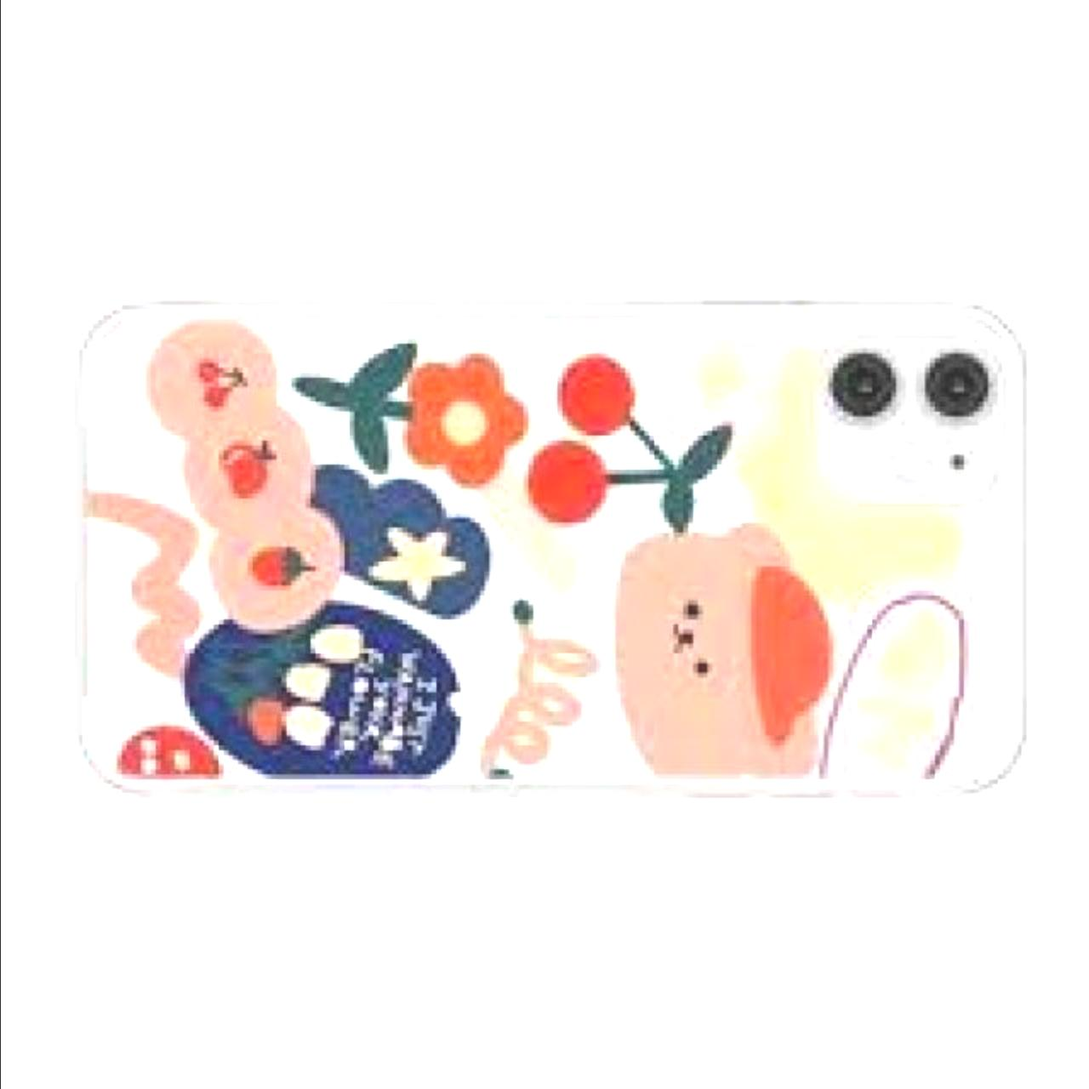phone: (79, 289, 1027, 801)
